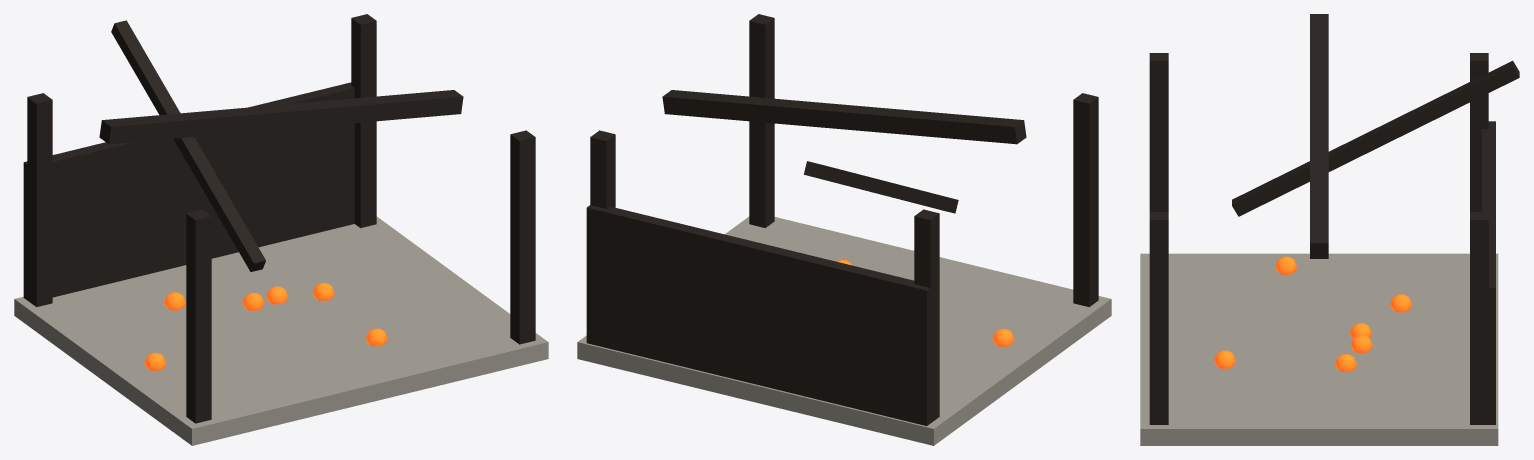
File: prop_rumah_terbakar.glb
The picture shows the model from 3 angles, left to right: view 1: azimuth 30°, elevation 25°; view 2: azimuth 150°, elevation 25°; view 3: azimuth 270°, elevation 25°; orthographic projection.
Visible parts, largest first — view 1: rumah_terbakar; view 2: rumah_terbakar; view 3: rumah_terbakar.
Boxes of the visible parts, x1,y1,x2,y2 form: rumah_terbakar: (14, 14, 548, 445); rumah_terbakar: (577, 14, 1111, 445); rumah_terbakar: (1140, 14, 1519, 445).
Size of the model in its own units: 4.4 by 3.08 by 4.03.
